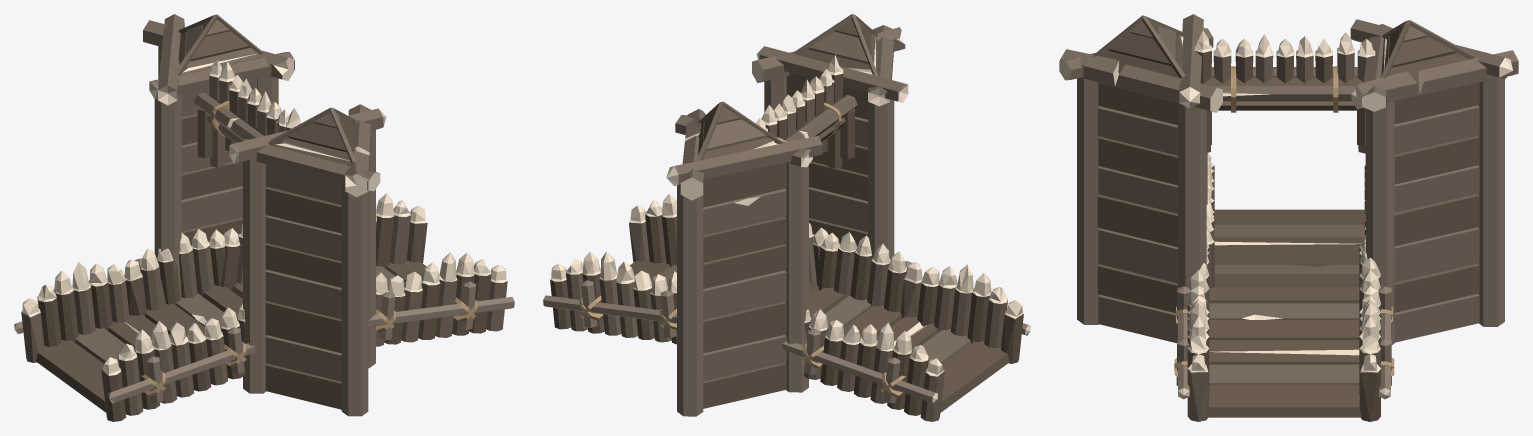
Rendered from BRIDGE_FULL.fbx.
The picture shows the model from 3 angles, left to right: view 1: azimuth 30°, elevation 25°; view 2: azimuth 150°, elevation 25°; view 3: azimuth 270°, elevation 25°; orthographic projection. The views are drawn at different scales.
Parts seen in each view (by area): view 1: BRIDGE_MAIN_02, PROPS_OSNOVA_02, PROPS_UP_02, BRIDGE_MAIN_01, PROPS_UP_01, PROPS_OSNOVA_01, BRIDGE_UP_01; view 2: BRIDGE_MAIN_02, PROPS_OSNOVA_01, PROPS_UP_01, BRIDGE_MAIN_01, PROPS_UP_02, PROPS_OSNOVA_02, BRIDGE_UP_01; view 3: BRIDGE_MAIN_01, PROPS_UP_01, PROPS_OSNOVA_01, PROPS_UP_02, PROPS_OSNOVA_02, BRIDGE_MAIN_02, BRIDGE_UP_01.
Boxes of the visible parts, x1,y1,x2,y2 form: BRIDGE_MAIN_02: (14, 229, 255, 421); PROPS_OSNOVA_02: (243, 215, 375, 416); PROPS_UP_02: (229, 104, 386, 267); BRIDGE_MAIN_01: (220, 193, 514, 346); PROPS_UP_01: (143, 14, 294, 181); PROPS_OSNOVA_01: (154, 162, 242, 303); BRIDGE_UP_01: (194, 60, 301, 167); BRIDGE_MAIN_02: (782, 232, 1030, 421); PROPS_OSNOVA_01: (677, 242, 808, 416); PROPS_UP_01: (666, 101, 822, 270); BRIDGE_MAIN_01: (543, 193, 828, 344); PROPS_UP_02: (752, 14, 908, 182); PROPS_OSNOVA_02: (809, 161, 894, 260); BRIDGE_UP_01: (755, 54, 857, 168); BRIDGE_MAIN_01: (1174, 235, 1394, 421); PROPS_UP_01: (1350, 19, 1518, 190); PROPS_OSNOVA_01: (1365, 154, 1504, 345); PROPS_UP_02: (1059, 14, 1222, 194); PROPS_OSNOVA_02: (1077, 153, 1207, 343); BRIDGE_MAIN_02: (1206, 153, 1365, 288); BRIDGE_UP_01: (1194, 30, 1375, 153).
Bounding box in the file's own units: 1509 × 1020 × 1398.
